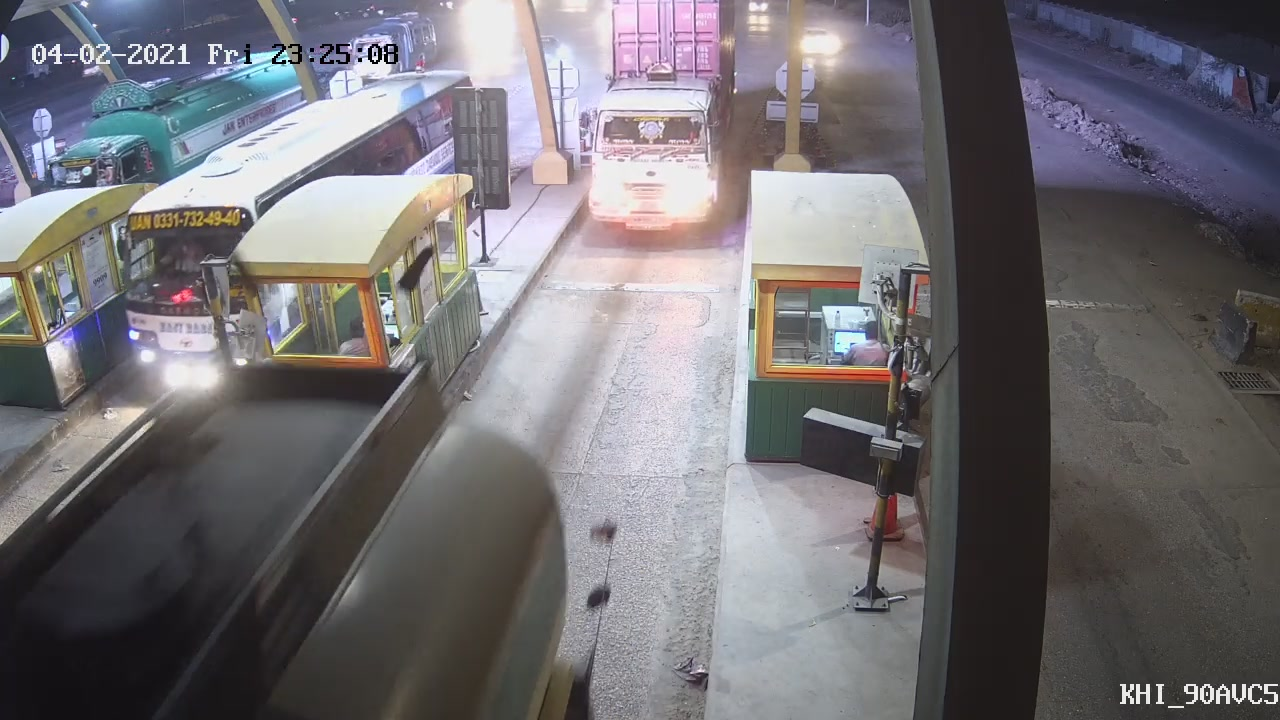F6: (570, 1, 751, 239)
